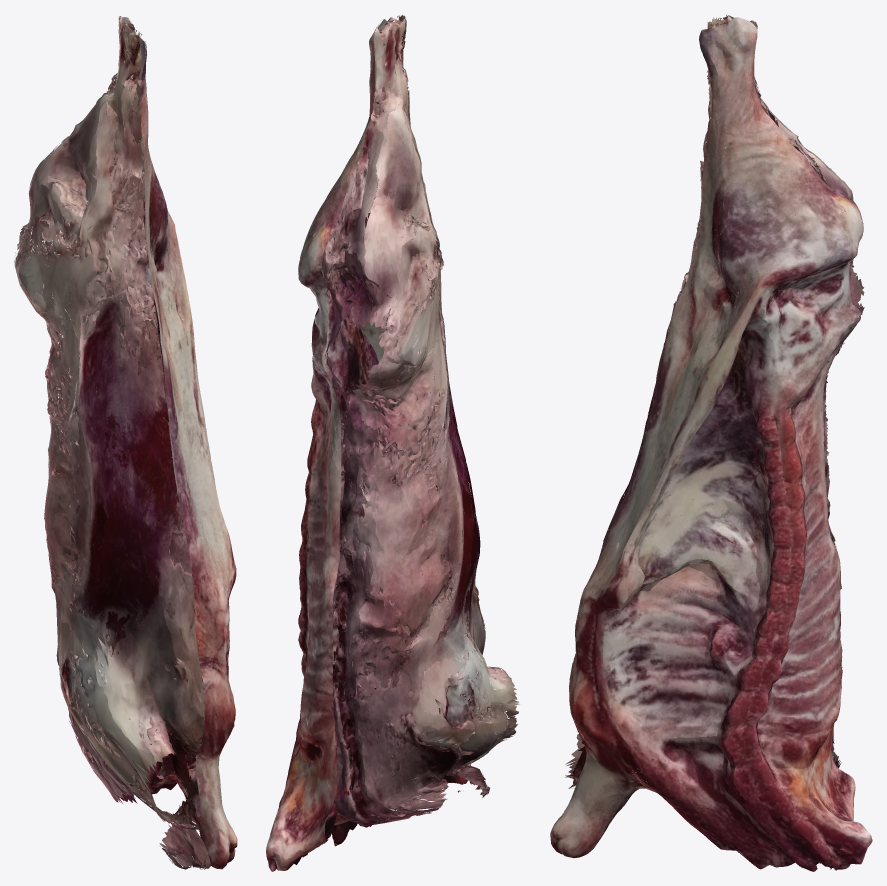
Rendered from demi_carcasse_boeuf_v2.glb.
3 views of the same model, side by side, from view 1: azimuth 30°, elevation 25°; view 2: azimuth 150°, elevation 25°; view 3: azimuth 270°, elevation 25° (orthographic). The views are drawn at different scales.
Visible parts, largest first — view 1: face_exterieure, face_de_fente; view 2: face_exterieure, face_de_fente; view 3: face_de_fente, face_exterieure.
Boxes of the visible parts, left/top/right/bottom form: face_exterieure: left=14, top=16, right=210, bottom=869; face_de_fente: left=72, top=17, right=237, bottom=869; face_exterieure: left=324, top=15, right=519, bottom=826; face_de_fente: left=266, top=19, right=470, bottom=871; face_de_fente: left=550, top=17, right=872, bottom=871; face_exterieure: left=565, top=15, right=864, bottom=798.
Size of the model in its own units: 0.4638 by 2.5 by 0.8771.
2 materials, 2 textured.
